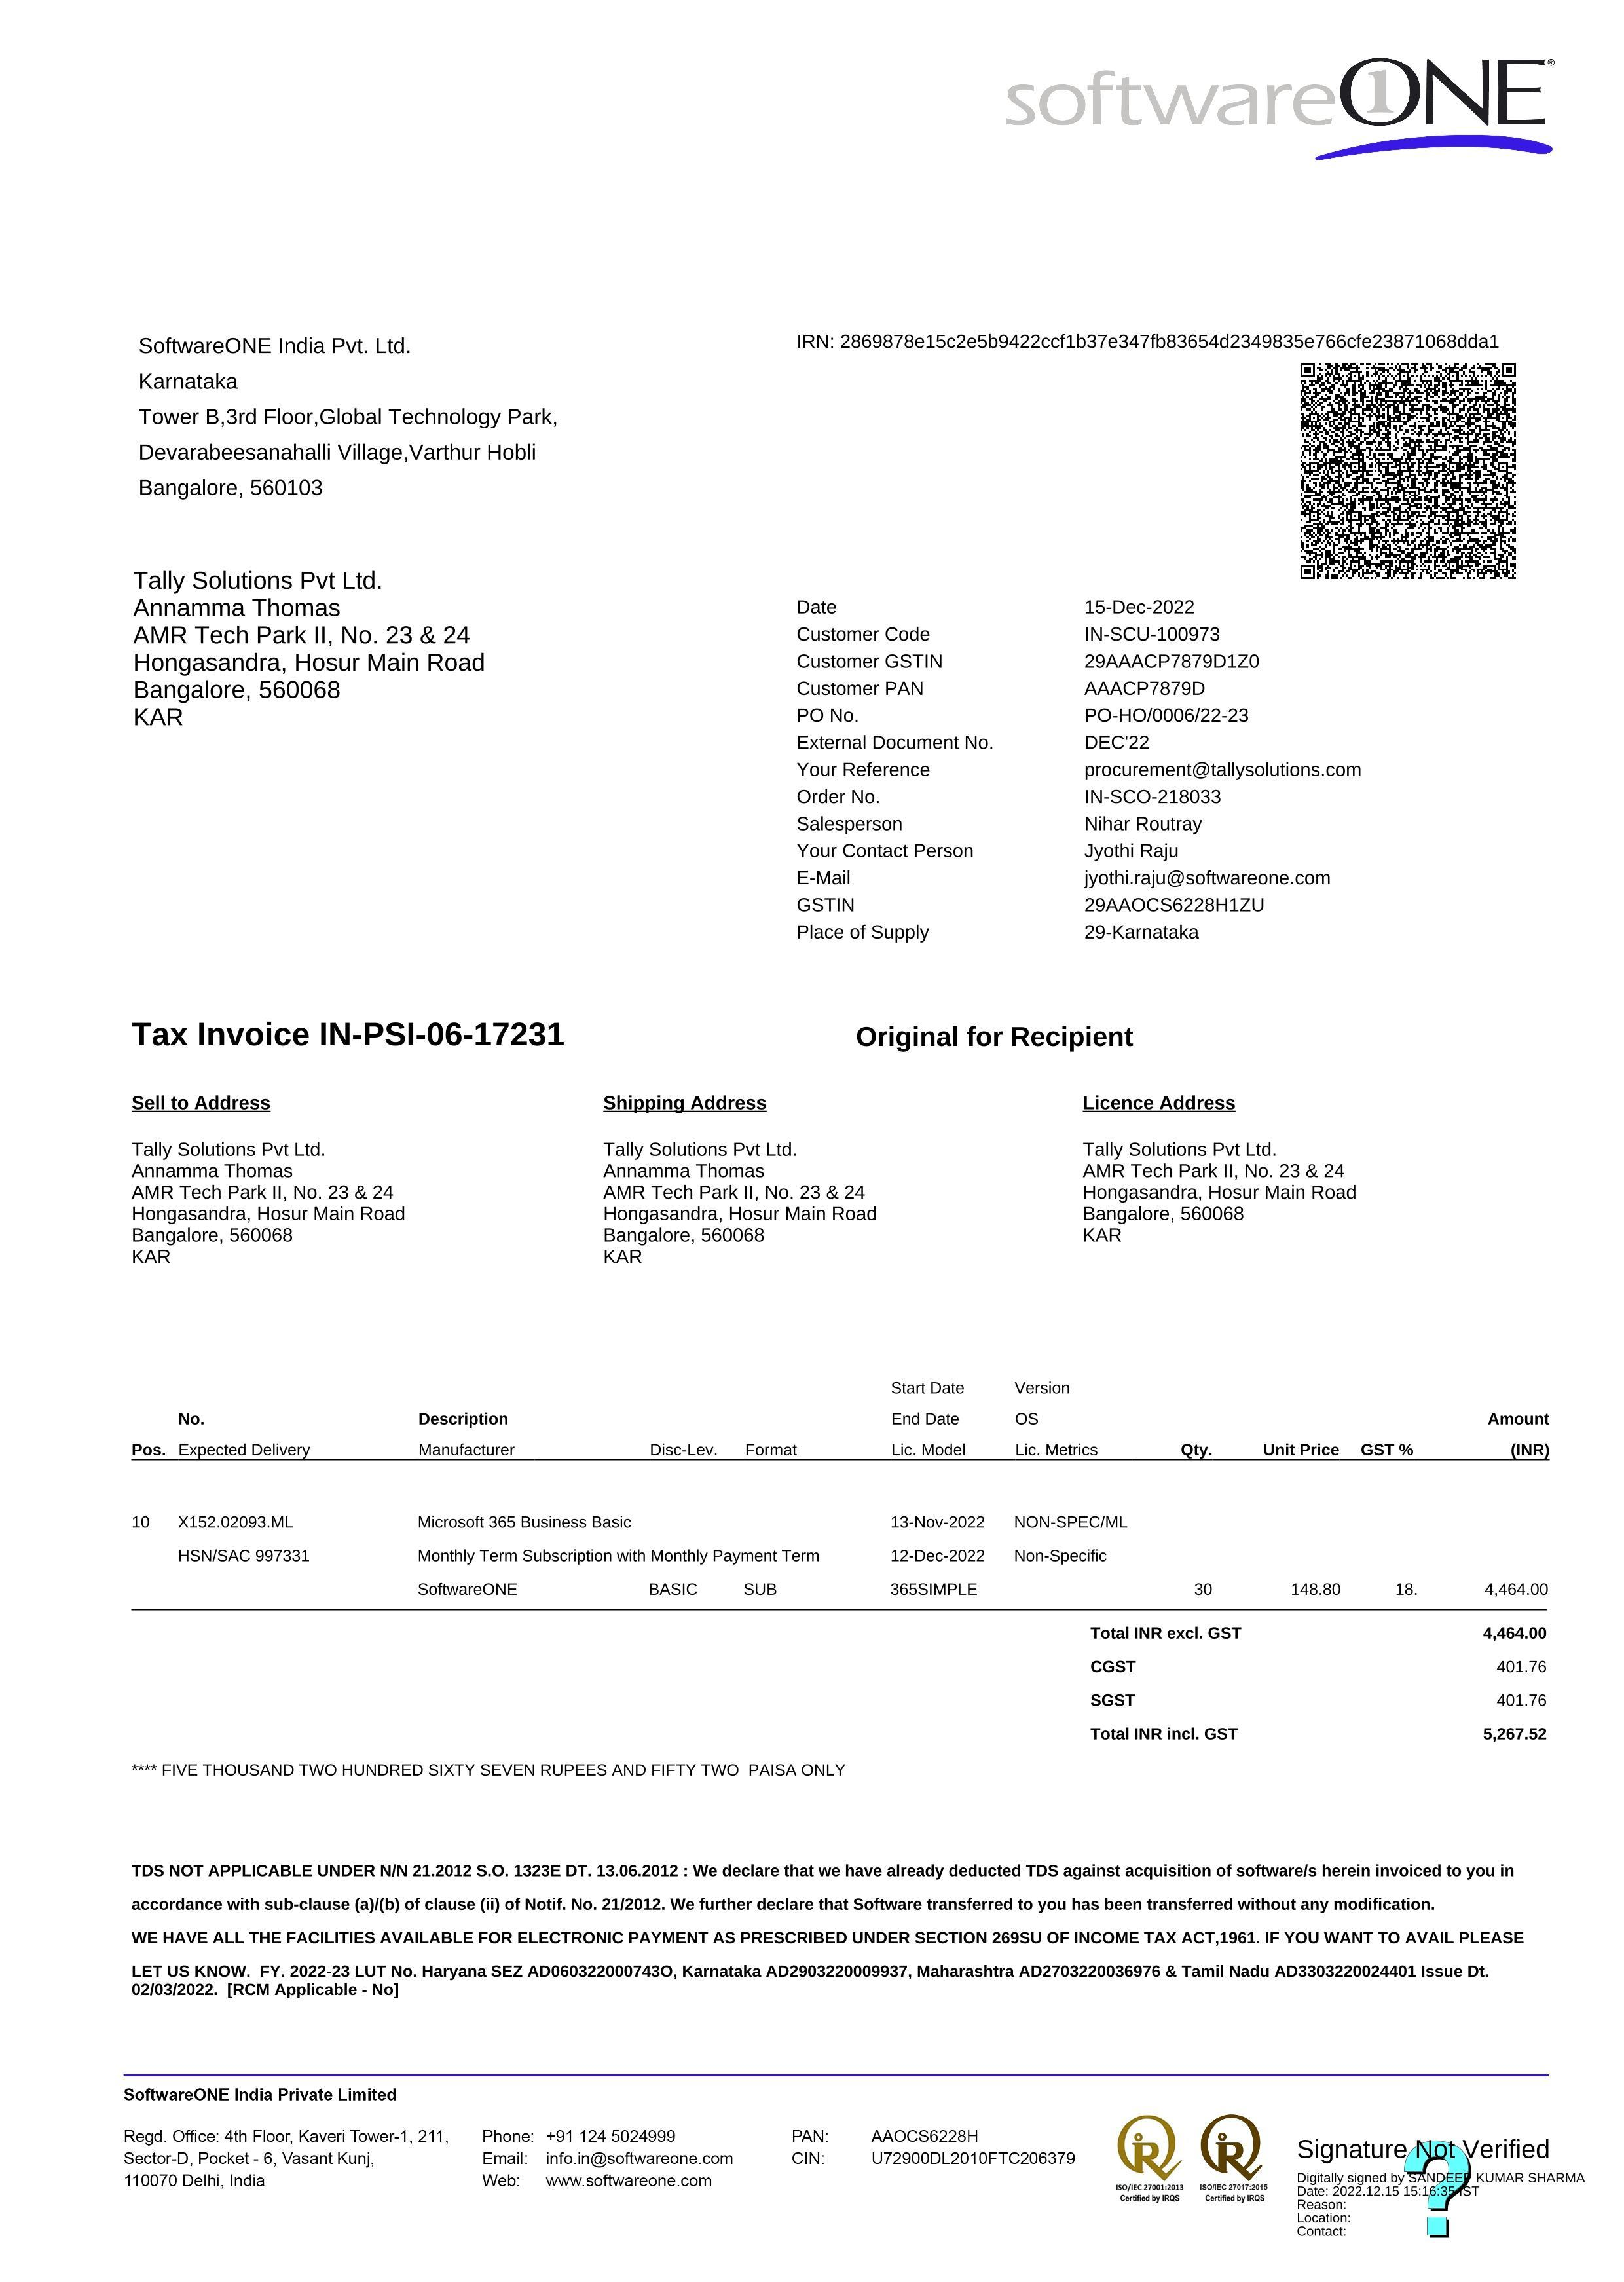InvoiceDate: (1077, 585, 1199, 621)
InvoiceNumber: (309, 1007, 571, 1062)
TotalAmount: (1475, 1719, 1557, 1748)
